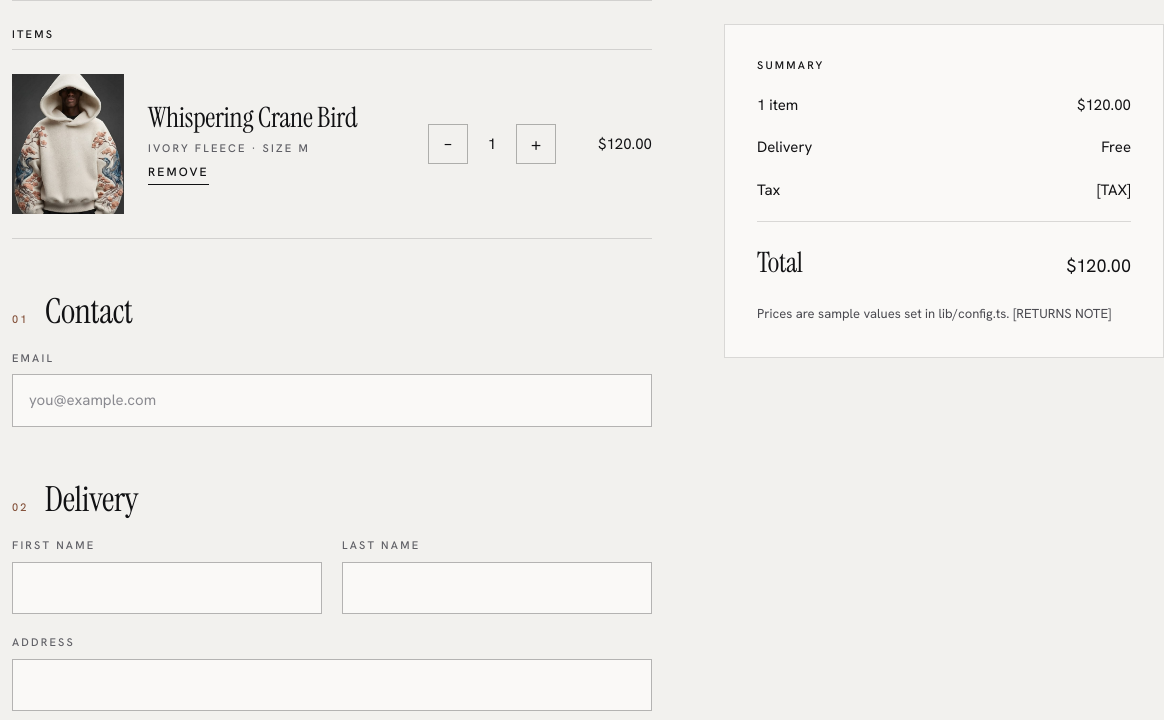
Test case: removing lines › removes the line
The width and height of the screenshot is (1164, 720).
Click the button "Remove".
click(178, 175)  # box [148,164,209,185]
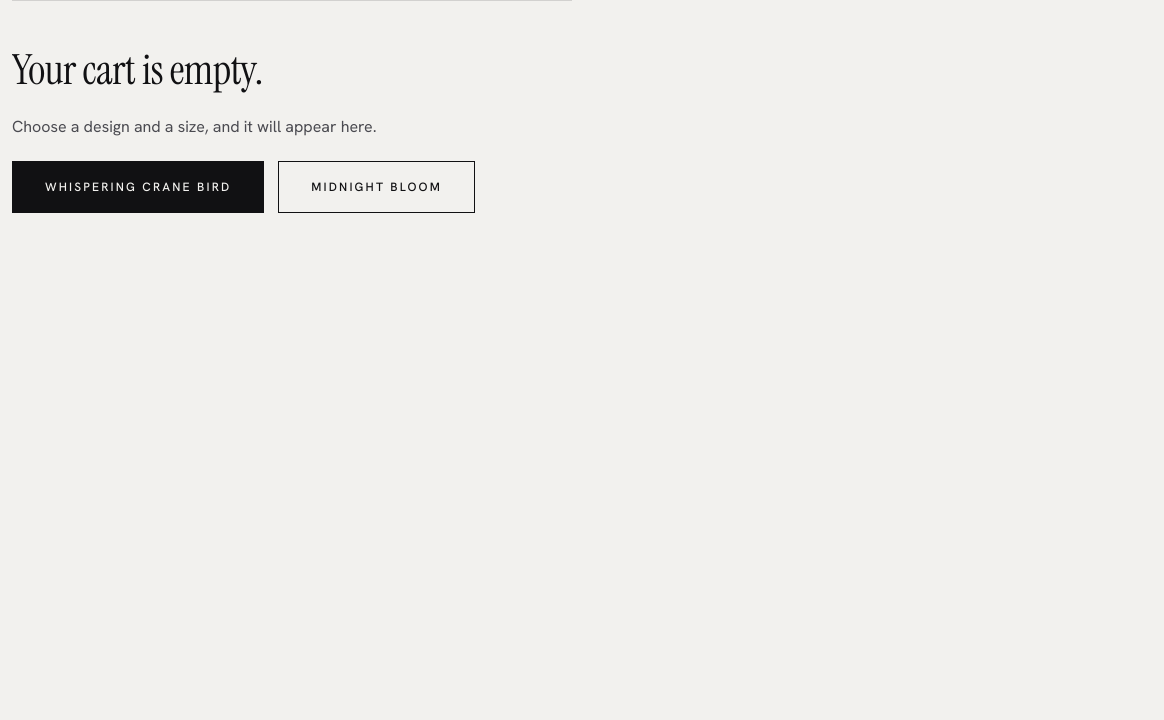
Expected: the heading "Your cart is empty." is shown, [12,43,263,97]
